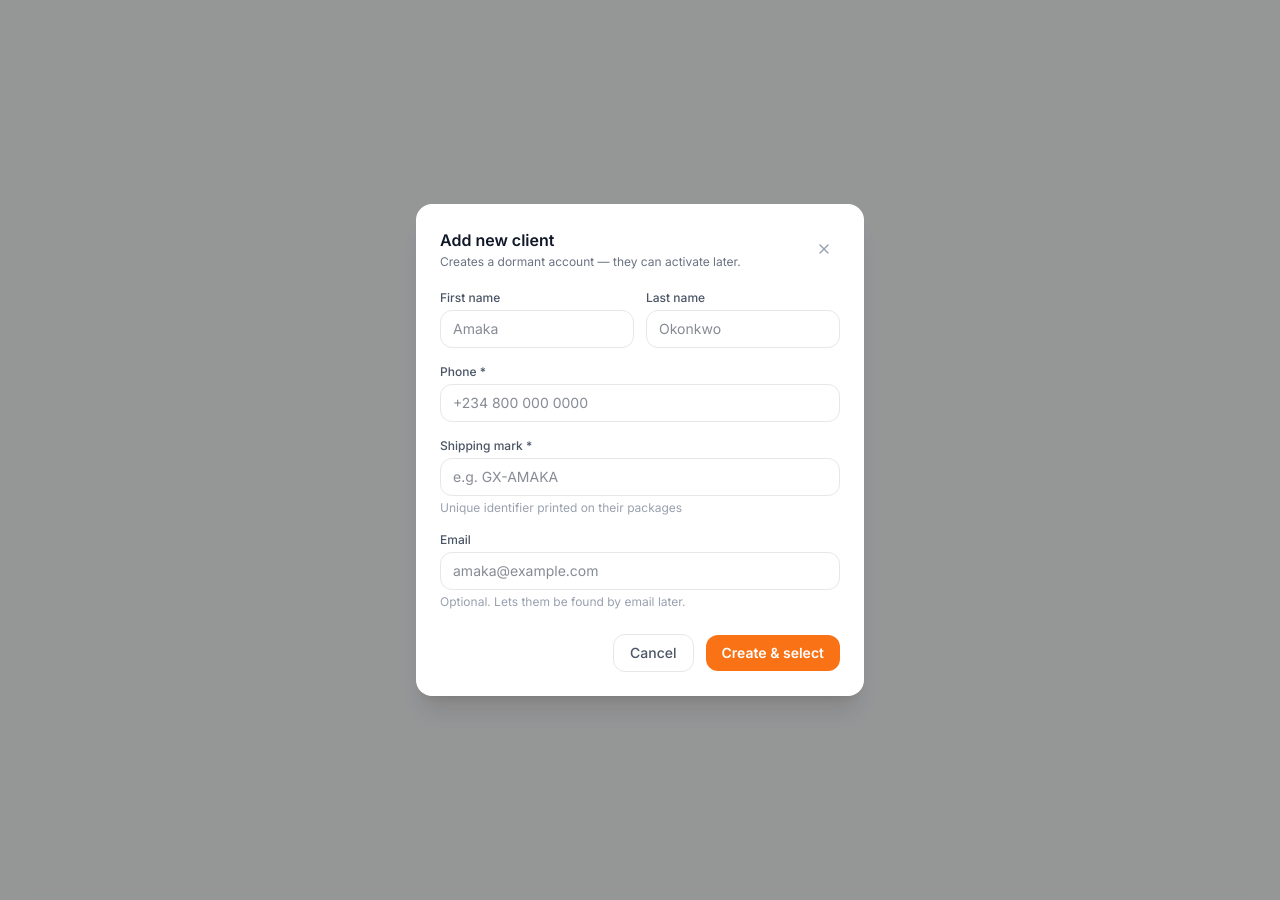
CreateClientModal › requires a phone number and a shipping mark
Click the button "Create & select": [773, 653] box x1=706 y1=635 x2=840 y2=671
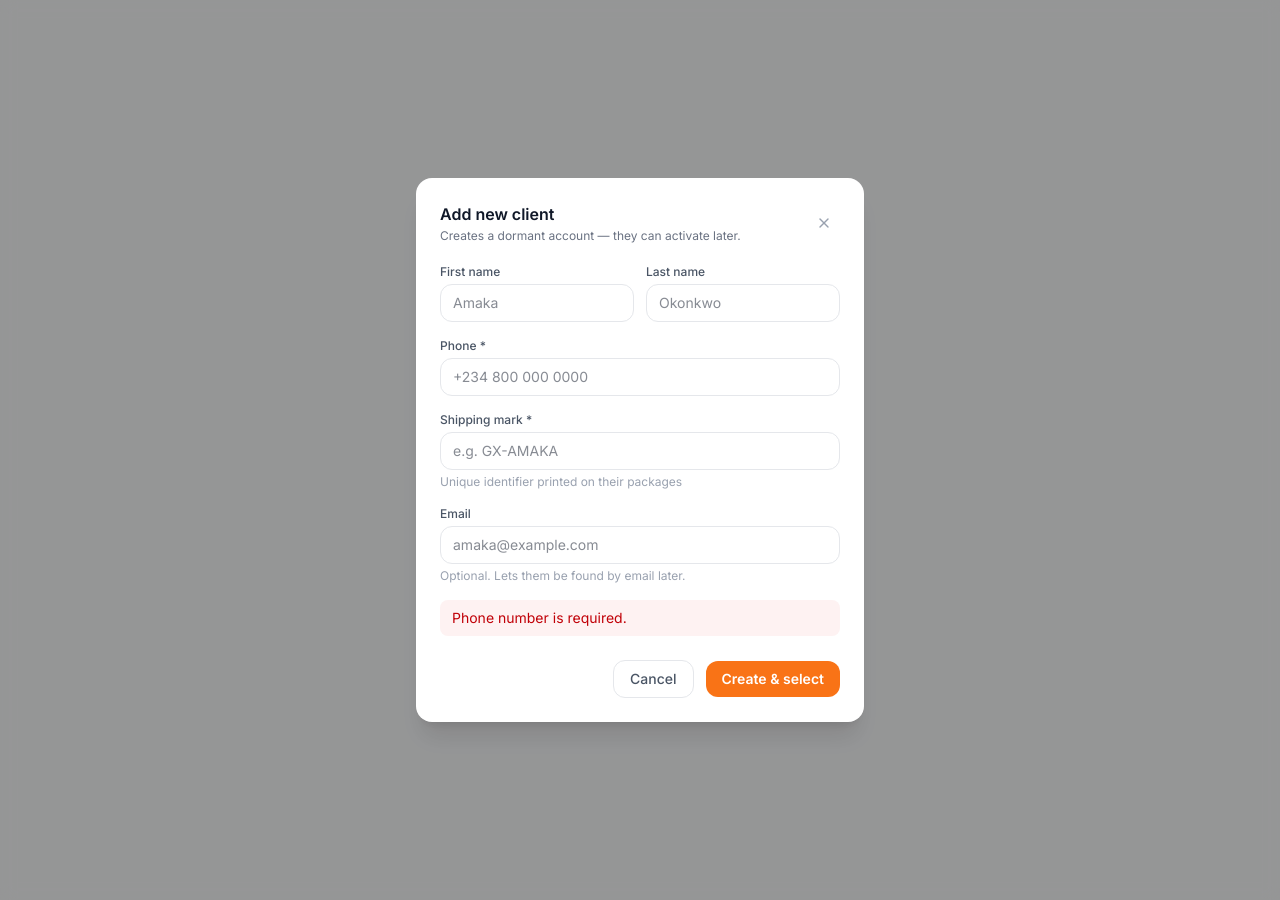
Expected: the text "Phone number is required." is shown, x1=440 y1=600 x2=840 y2=636
In the field labelled "Phone *": [640, 377] box x1=440 y1=358 x2=840 y2=396, type "+2348000000000"
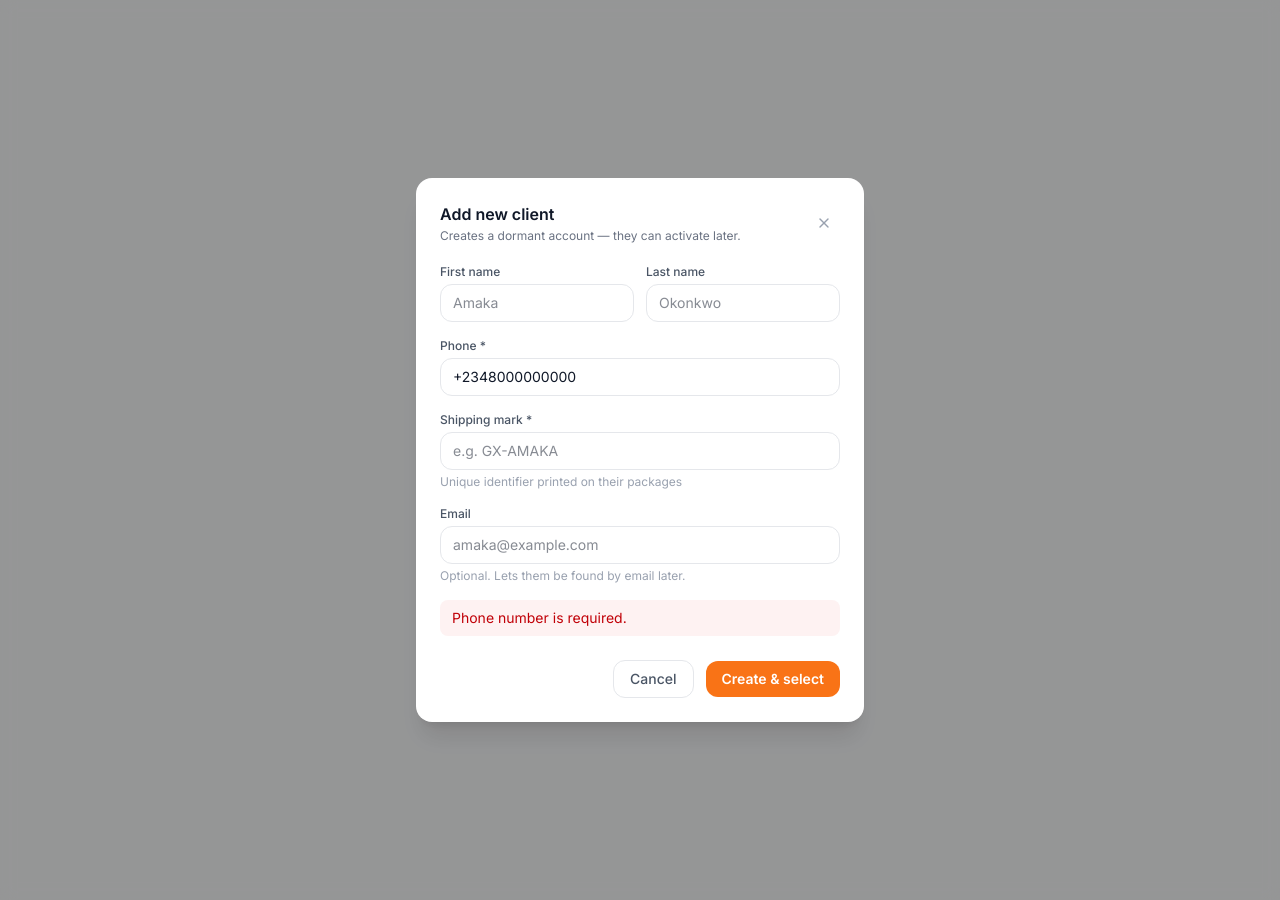
Click the button "Create & select": [773, 679] box x1=706 y1=661 x2=840 y2=697
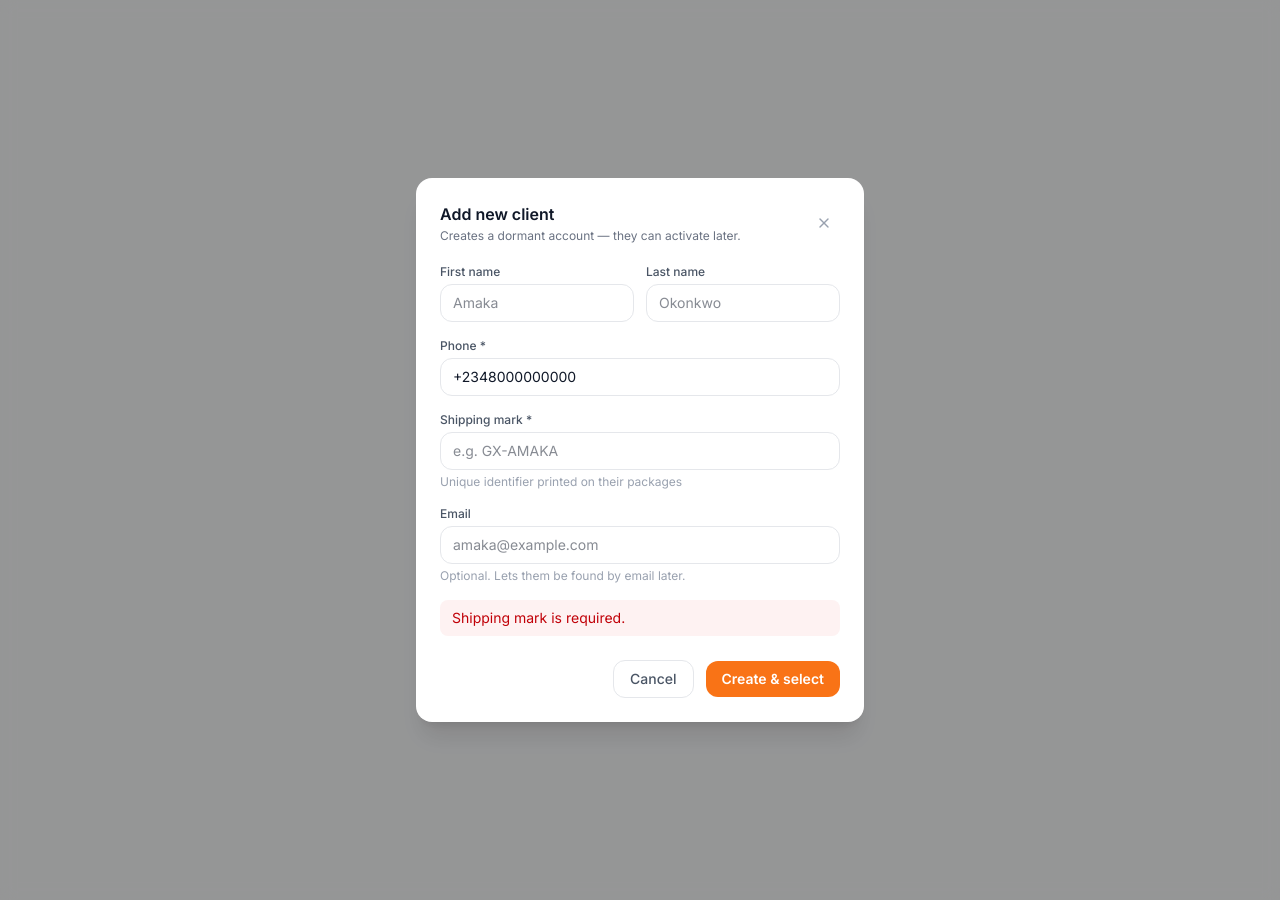
Expected: the text "Shipping mark is required." is shown, x1=440 y1=600 x2=840 y2=636
